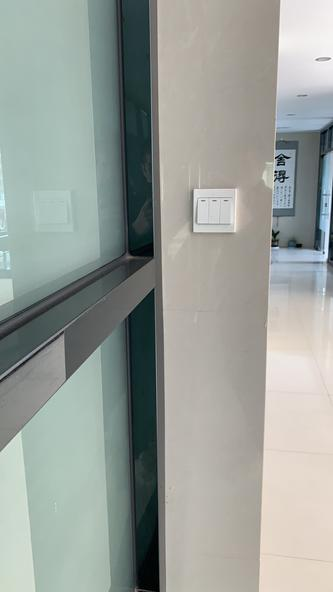switch: (220, 197, 233, 226), (197, 195, 208, 223), (209, 198, 220, 224)
